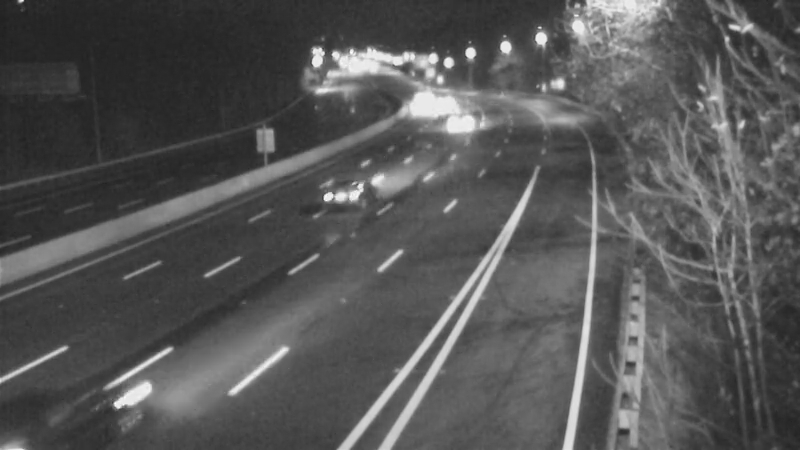vehicle: (1, 353, 111, 450), (305, 154, 385, 234), (396, 71, 446, 121), (420, 78, 470, 128), (396, 80, 446, 130), (410, 91, 460, 141), (443, 98, 493, 148)
